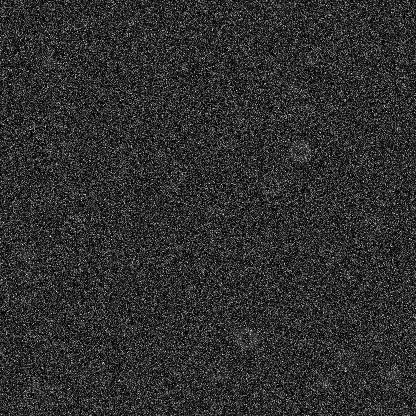Ring: (360, 212, 384, 236), (19, 380, 43, 404), (332, 346, 356, 370), (234, 326, 258, 350), (288, 138, 312, 162), (258, 173, 282, 197), (81, 359, 105, 383), (204, 358, 228, 382), (41, 382, 65, 406)
Spot: (324, 98, 340, 114), (316, 374, 332, 390), (282, 80, 298, 96), (28, 349, 44, 365), (248, 362, 264, 378), (214, 59, 230, 75), (19, 289, 35, 305), (386, 365, 402, 381), (127, 11, 143, 27), (55, 134, 71, 150), (304, 51, 320, 67), (120, 373, 136, 389), (56, 27, 72, 43), (223, 134, 239, 150), (204, 202, 220, 218), (40, 54, 56, 70), (18, 246, 34, 262)
